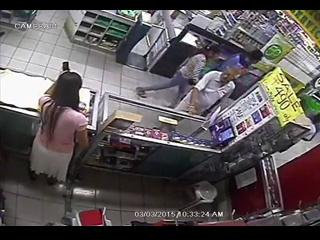Normal: (28, 67, 91, 190), (136, 50, 210, 109), (176, 66, 247, 116)
